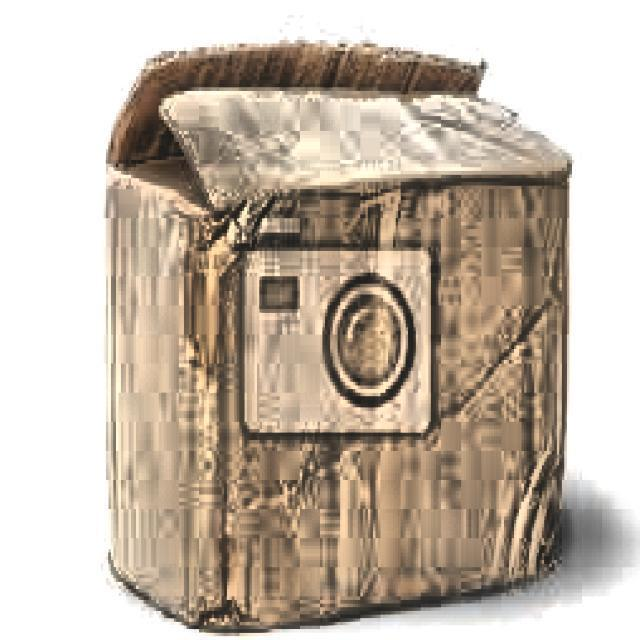cardboard: (101, 36, 572, 633)
